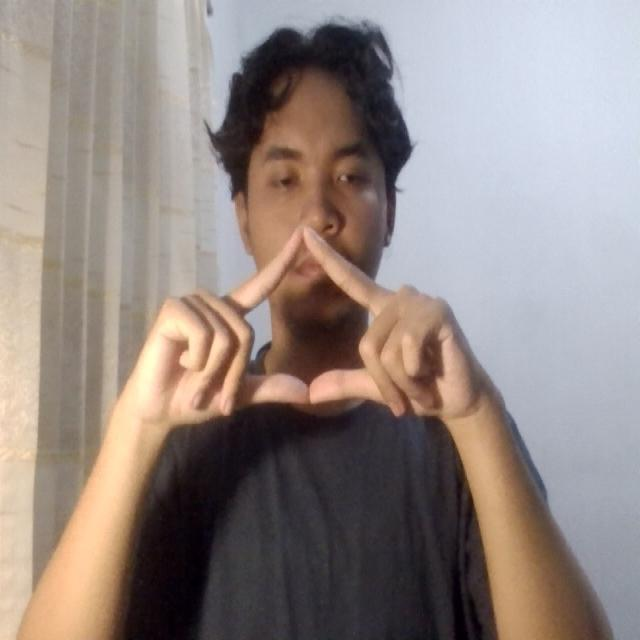A: (130, 211, 504, 448)
